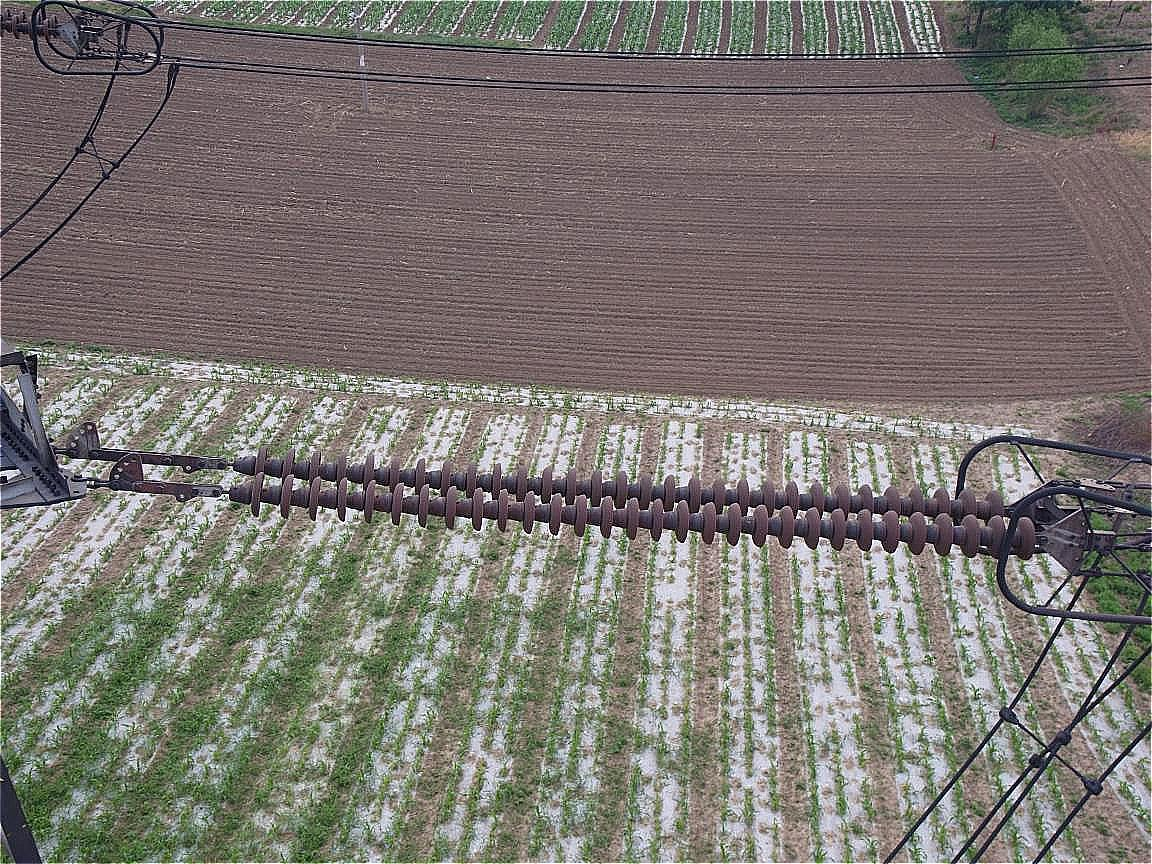insultor1: (218, 446, 1011, 570)
